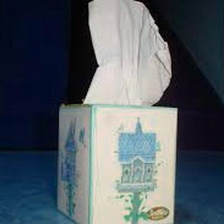plastic_box: (51, 97, 182, 224)
tissue: (77, 0, 176, 110)
